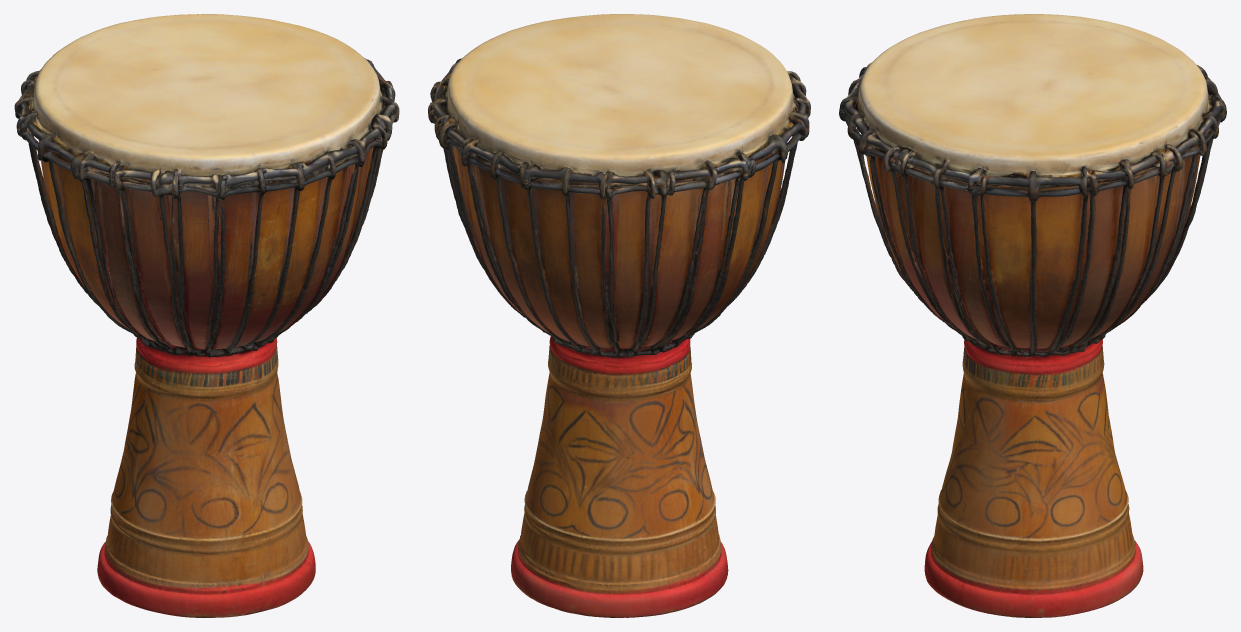
File: Meshy_AI_Nigeria_A_Djembe_Dru_1015134655_texture.fbx
3 views of the same model, side by side, from view 1: azimuth 30°, elevation 25°; view 2: azimuth 150°, elevation 25°; view 3: azimuth 270°, elevation 25° (orthographic).
Parts seen in each view (by area): view 1: Mesh_0; view 2: Mesh_0; view 3: Mesh_0.
Boxes of the visible parts, x1,y1,x2,y2 form: Mesh_0: (14, 14, 399, 617); Mesh_0: (428, 14, 810, 617); Mesh_0: (839, 14, 1226, 617).
Bounding box in the file's own units: 143 × 200 × 144.
Materials: 1 (1 with a texture image).
